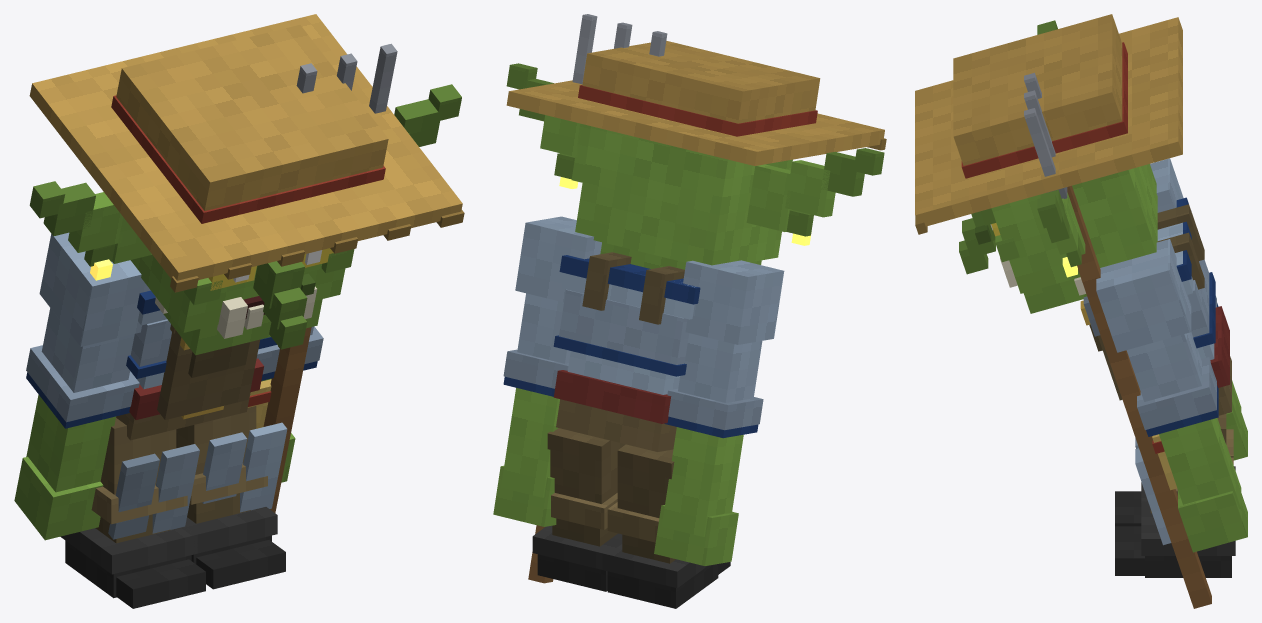
The model's file is goblin_fermier_v3.glb.
3 renders of one model, left to right at view 1: azimuth 30°, elevation 25°; view 2: azimuth 150°, elevation 25°; view 3: azimuth 270°, elevation 25°, orthographic. The views are drawn at different scales.
Parts seen in each view (by area): view 1: Head, ArmR, Torso, LegR, LegL, HandL, ArmL; view 2: Head, ArmR, Torso, ArmL, LegL, LegR, HandL; view 3: Head, ArmL, HandL, Torso, LegL, ArmR, LegR.
Boxes of the visible parts, x1,y1,x2,y2 form: Head: (29,14,464,355); ArmR: (14,232,150,540); Torso: (108,290,287,539); LegR: (60,418,205,608); LegL: (176,406,285,589); HandL: (263,43,397,512); ArmL: (256,326,323,482); Head: (506,40,886,269); ArmR: (654,260,784,565); Torso: (553,252,700,451); ArmL: (493,216,601,526); LegL: (532,428,625,591); LegR: (602,444,730,608); HandL: (528,14,667,583); Head: (915,14,1182,313); ArmL: (1096,239,1247,552); HandL: (1024,72,1211,608); Torso: (1074,197,1231,545); LegL: (1115,414,1235,577); ArmR: (1150,158,1247,460); LegR: (1115,429,1235,526).
Bounding box in the file's own units: 1.09 × 1.42 × 0.8373.
Materials: 44 (44 with a texture image).
